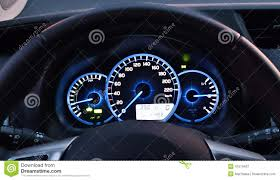Digital_Meter: (135, 104, 176, 119)
